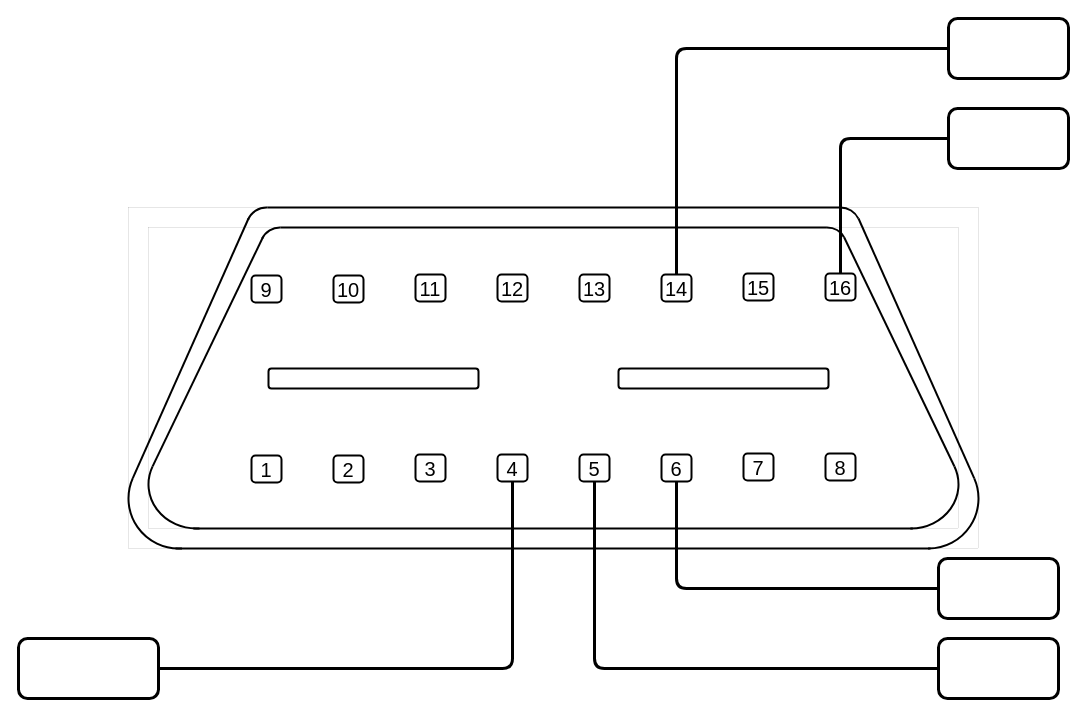
Image size: 1087x717. Some labels were removed from this diagram. Here are the shapes that lost their labels. From the top down, the centre of each, then its label:
At [1008,48]: "CAN-LOW".
At [1008,138]: "Akkumulátor".
At [998,588]: "CAN-HIGH".
At [88,668]: "Karosszériaföld".
At [998,668]: "Jelföld".
